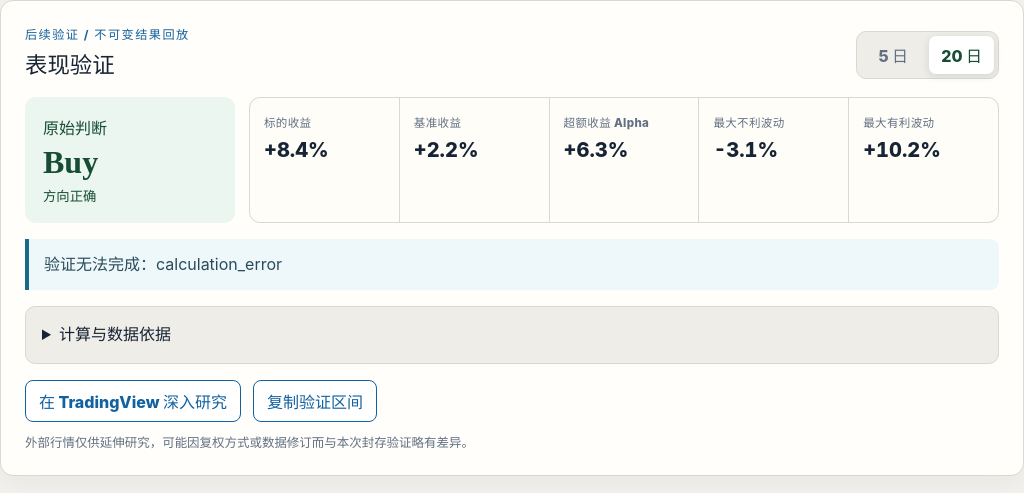
Test: explains scheduled and failed validation states
Expected: the text "验证无法完成：calculation_error" is shown, [25,239,999,290]
Click the button "5 日".
click(893, 55)  # box [861,36,925,74]
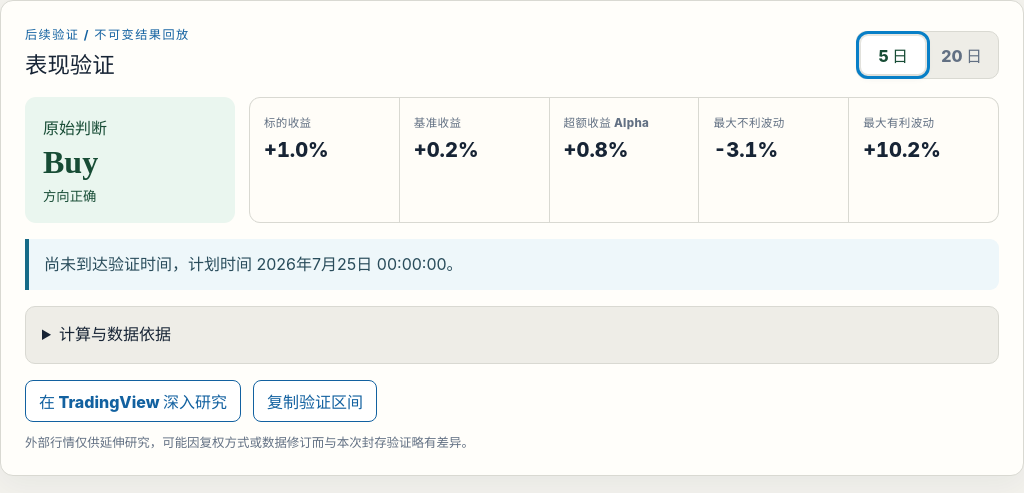
Expected: the text "尚未到达验证时间" is shown, [44,254,463,274]
